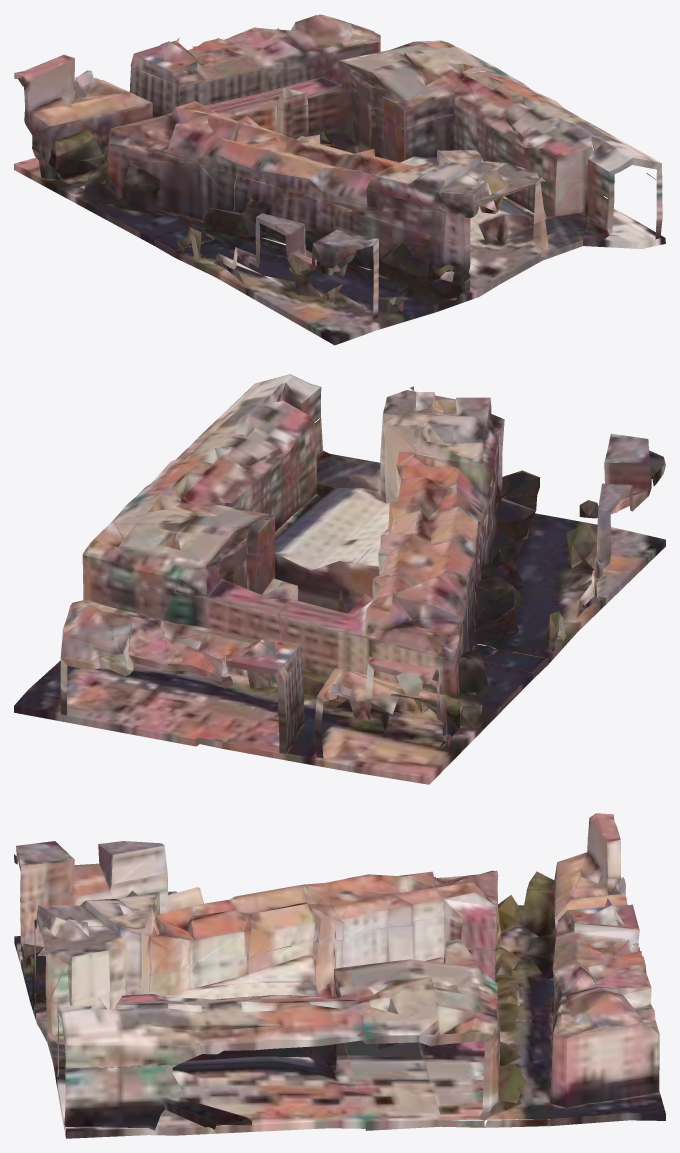
The picture shows the model from 3 angles, top to bottom: view 1: azimuth 30°, elevation 25°; view 2: azimuth 150°, elevation 25°; view 3: azimuth 270°, elevation 25°; orthographic projection. The views are drawn at different scales.
Visible parts, largest first — view 1: Mesh_0; view 2: Mesh_0; view 3: Mesh_0.
Part boxes in pixels (x1,y1,x2,y2): Mesh_0: (14, 14, 665, 345); Mesh_0: (14, 374, 665, 784); Mesh_0: (14, 813, 665, 1138).
Size of the model in its own units: 133 by 39.01 by 165.
Materials: 1 (1 with a texture image).
